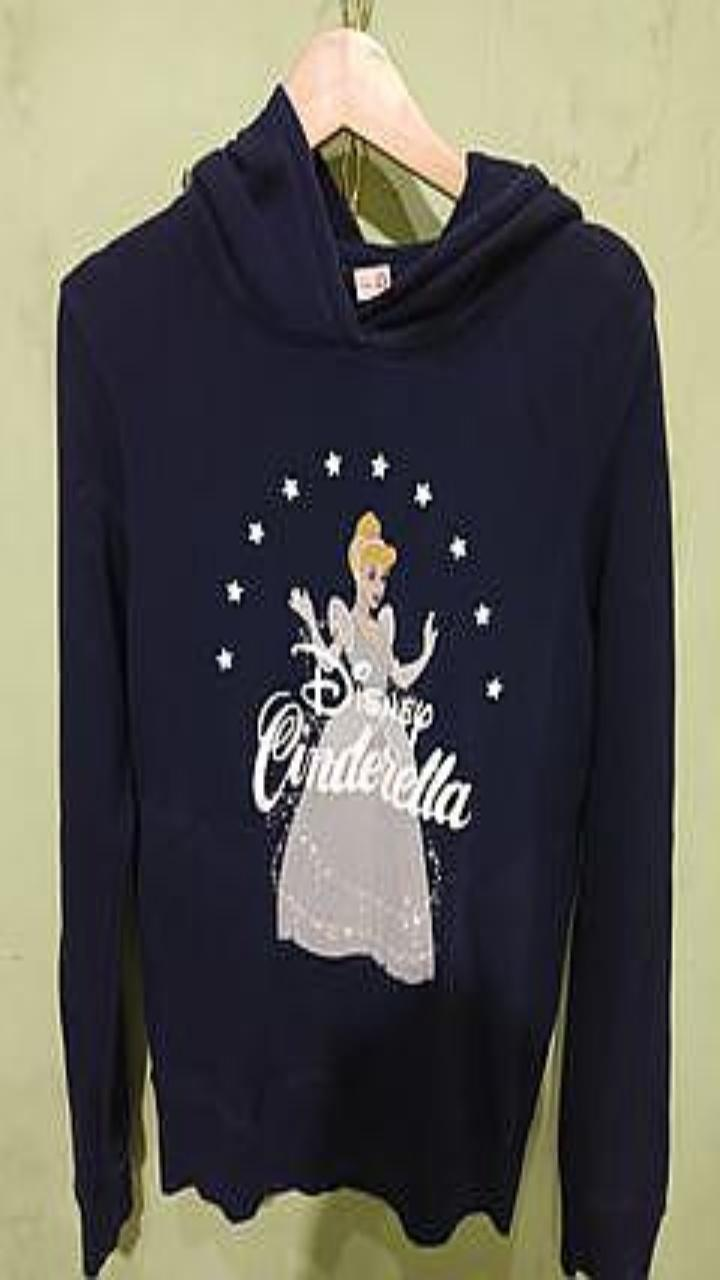Dresses: (277, 786, 433, 982)
Hoodie: (57, 83, 673, 1279)
